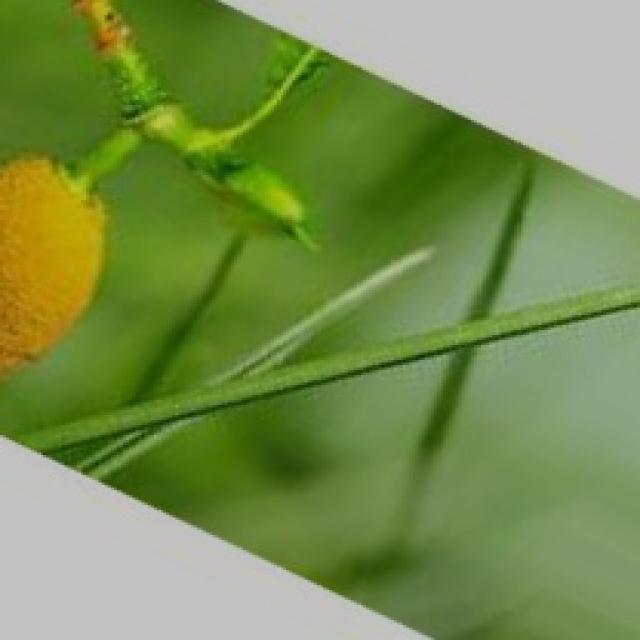Fruit: (0, 122, 145, 430)
